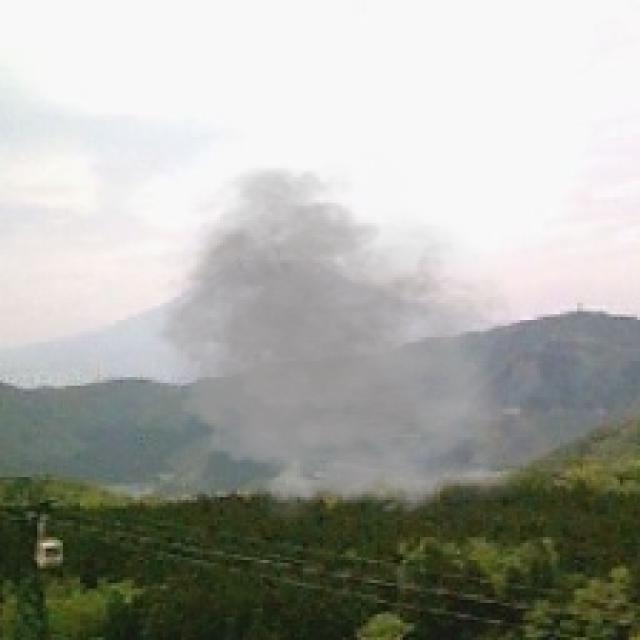smoke: (135, 154, 534, 532)
